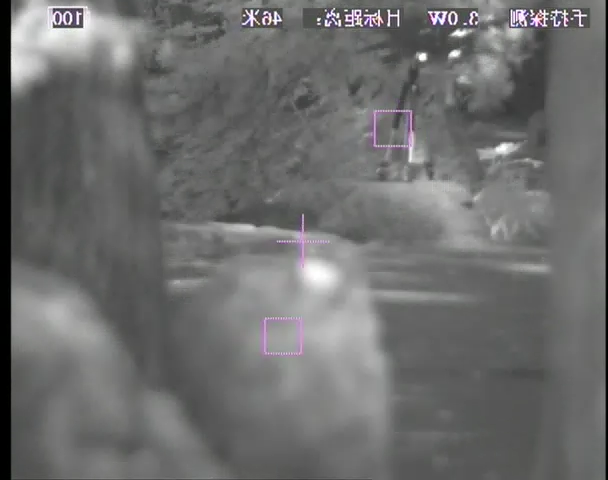my: (416, 52, 427, 62)
